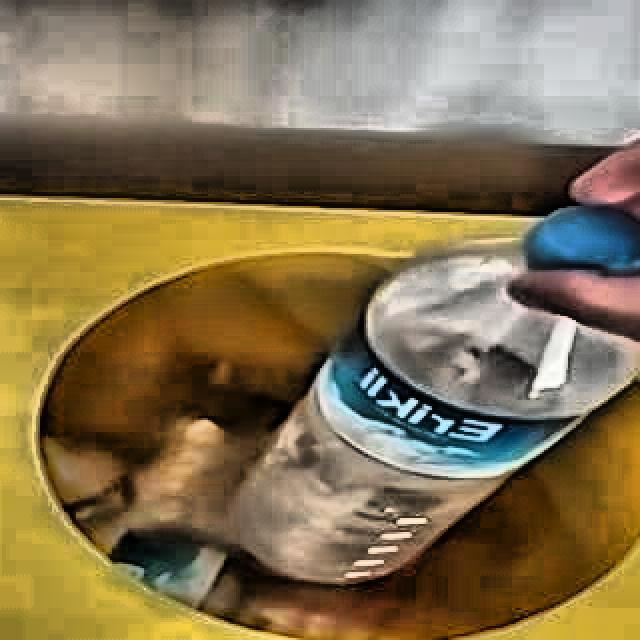plastic: (235, 208, 640, 582)
